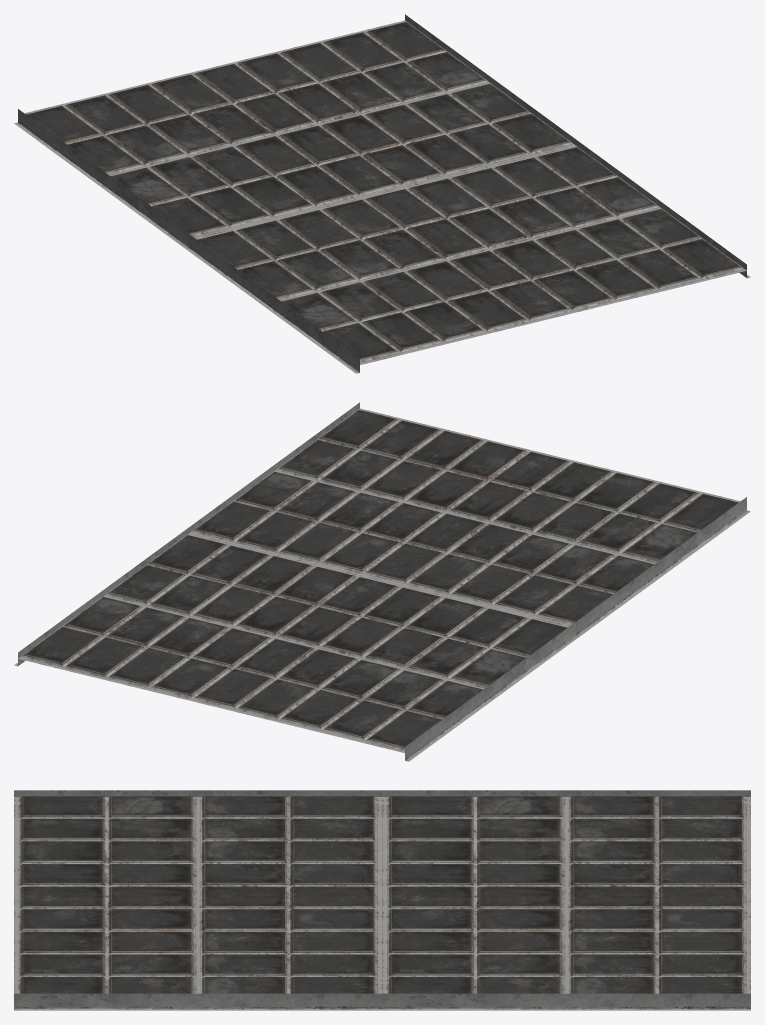
The model's file is window_tall_large_02.gltf.
3 renders of one model, top to bottom at view 1: azimuth 30°, elevation 25°; view 2: azimuth 150°, elevation 25°; view 3: azimuth 270°, elevation 25°, orthographic. The views are drawn at different scales.
Parts seen in each view (by area): view 1: window_tall_large_02; view 2: window_tall_large_02; view 3: window_tall_large_02.
Part boxes in pixels (left/top/right/bottom): window_tall_large_02: left=14, top=14, right=750, bottom=373; window_tall_large_02: left=14, top=402, right=750, bottom=761; window_tall_large_02: left=14, top=790, right=750, bottom=1010.
Size of the model in its own units: 2 by 0.0667 by 3.
Materials: 2 (2 with a texture image).
